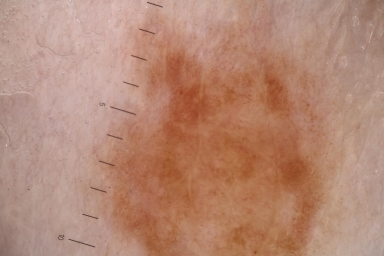melanoma: (106, 47, 327, 256)
